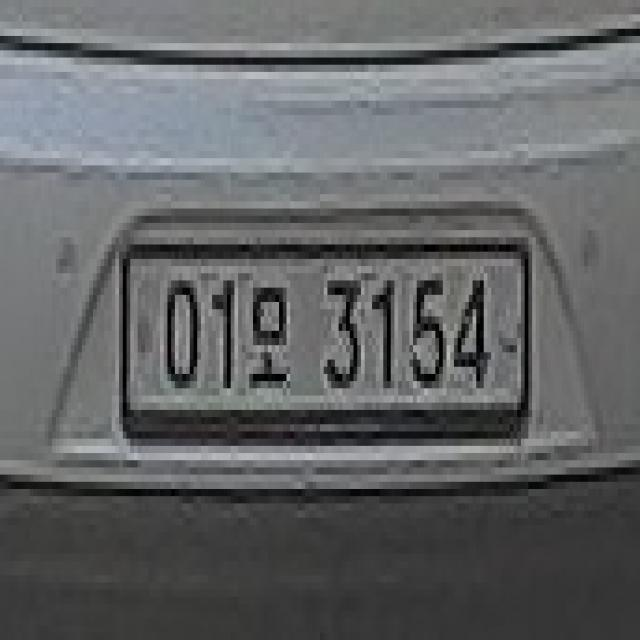0: (158, 276, 203, 386)
1: (369, 271, 399, 399), (213, 270, 240, 399)
3: (320, 270, 363, 402)
4: (452, 266, 492, 394)
5: (411, 262, 448, 398)
license_plate: (107, 220, 544, 446)
mo: (248, 275, 292, 395)
